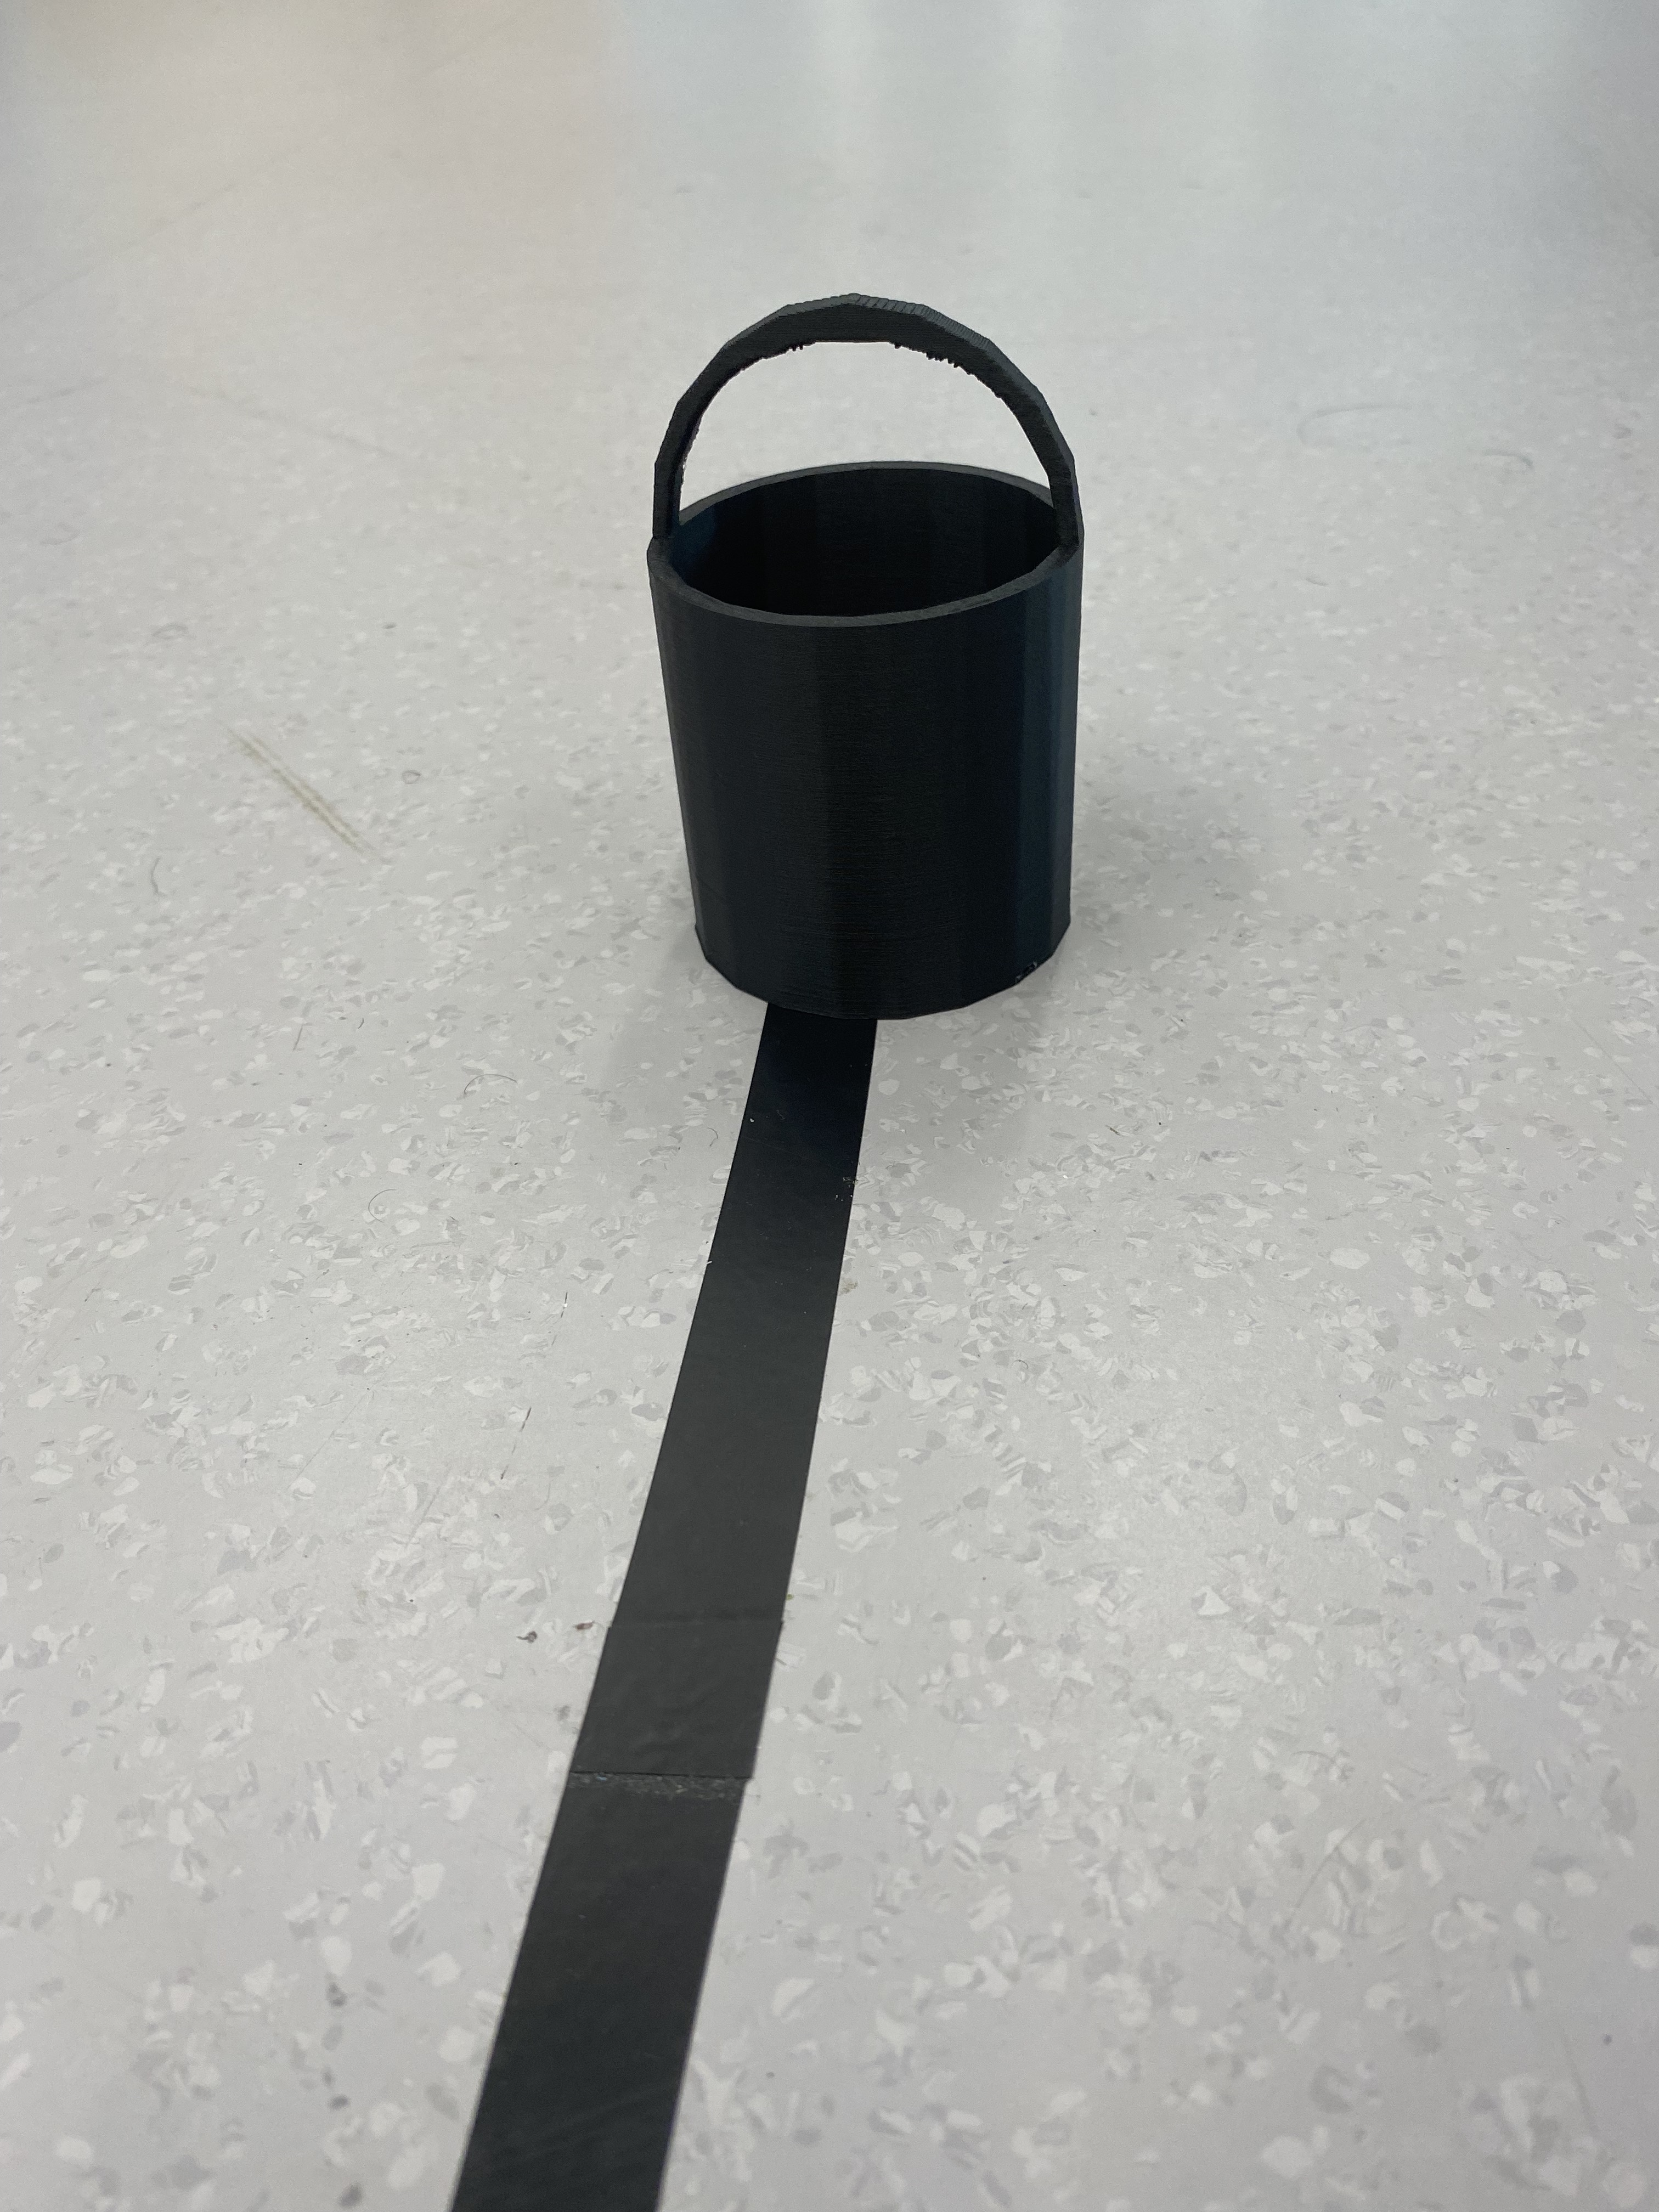bag: (636, 280, 1089, 1031)
